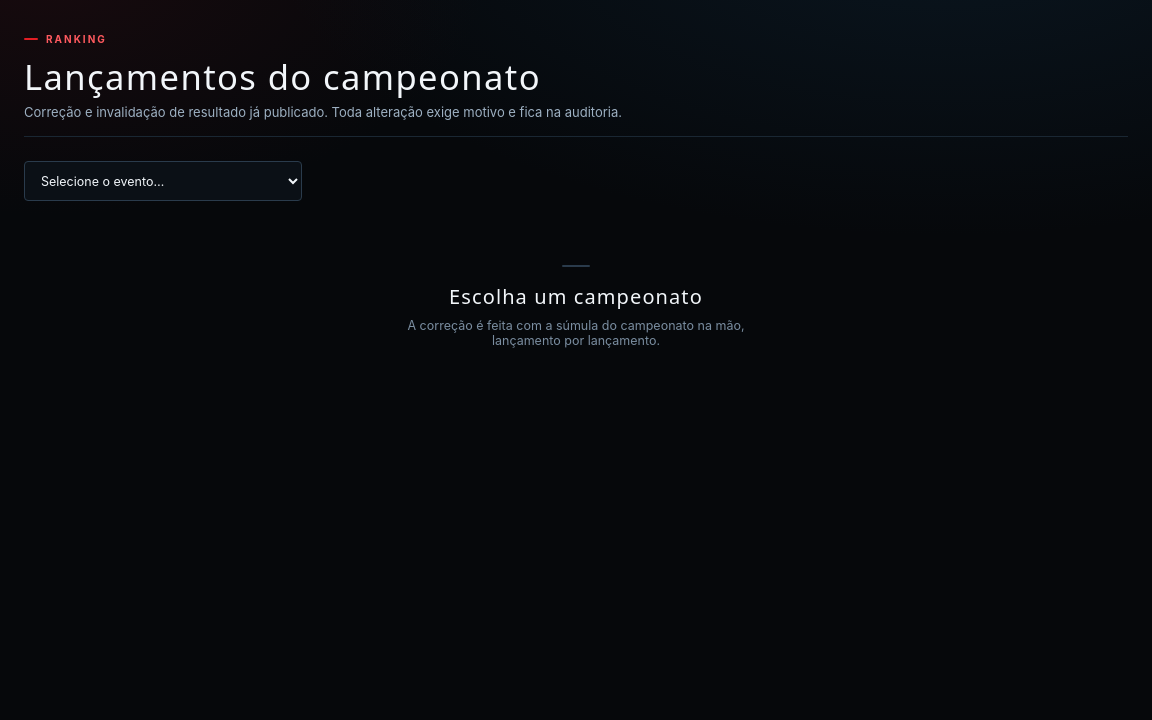
Test: a lista de lançamentos › mostra o lançamento com colocação, pontos e situação
Select "Etapa Cuiabá — Resultados publicados" in the dropdown named "selecionar evento" at (163, 181), box top-left (24, 161), bottom-right (302, 201)
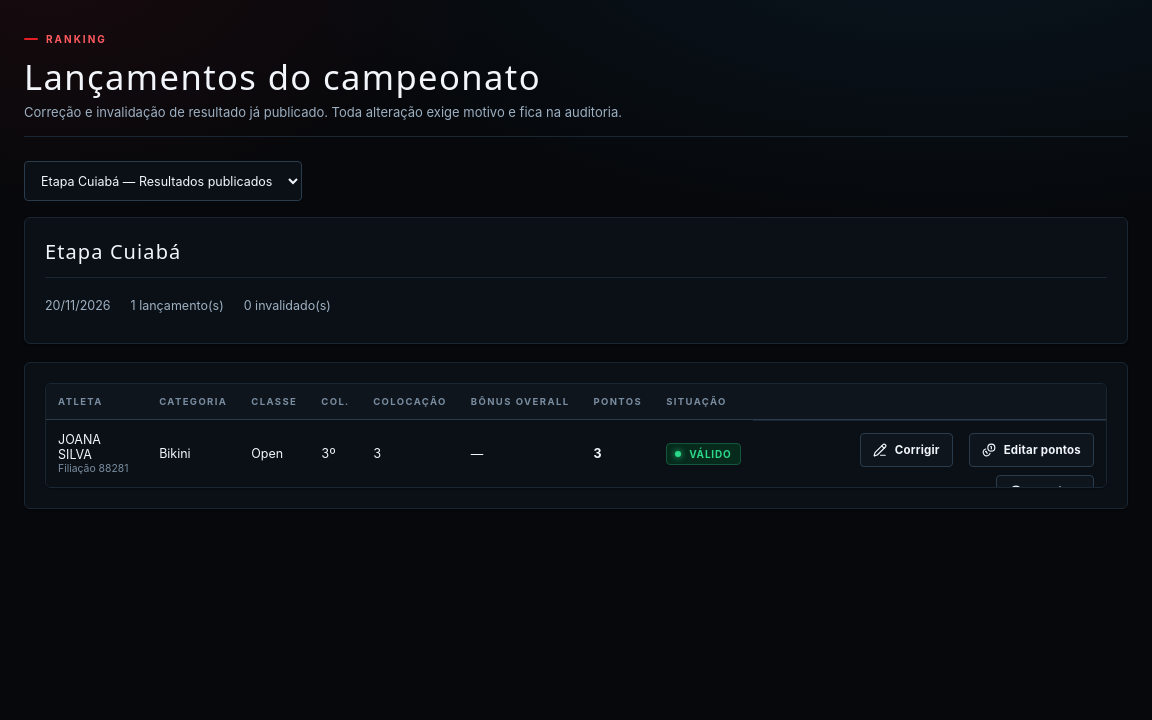
Now the text "JOANA SILVA" is shown, box top-left (58, 432), bottom-right (101, 462)
Now the text "Filiação 88281" is shown, box top-left (58, 462), bottom-right (135, 475)
Now the text "Válido" is shown, box top-left (666, 442), bottom-right (741, 464)
